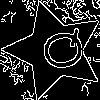Q: (30, 25, 90, 77)
